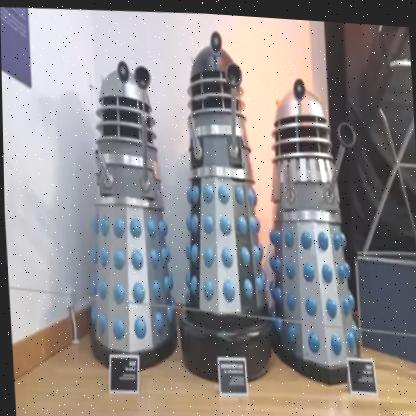dalek: (155, 23, 298, 389), (258, 68, 384, 405), (76, 56, 180, 384)
